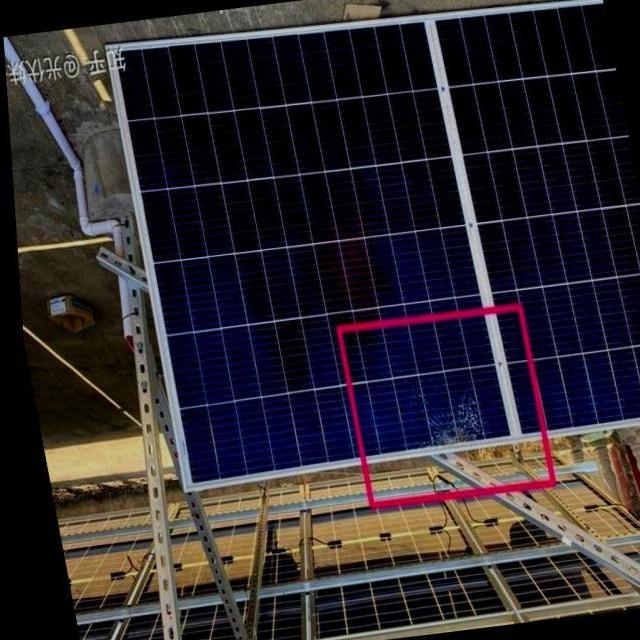cracked: (400, 368, 499, 454)
